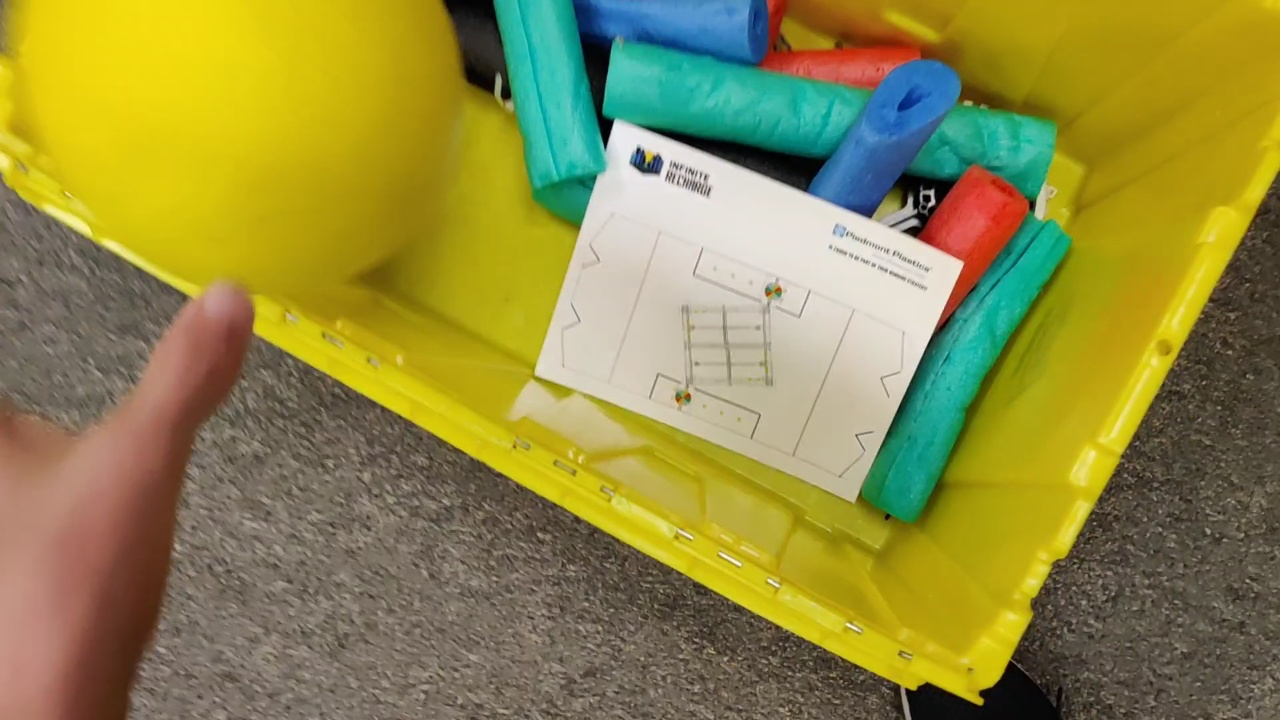Ball: (14, 8, 474, 314)
